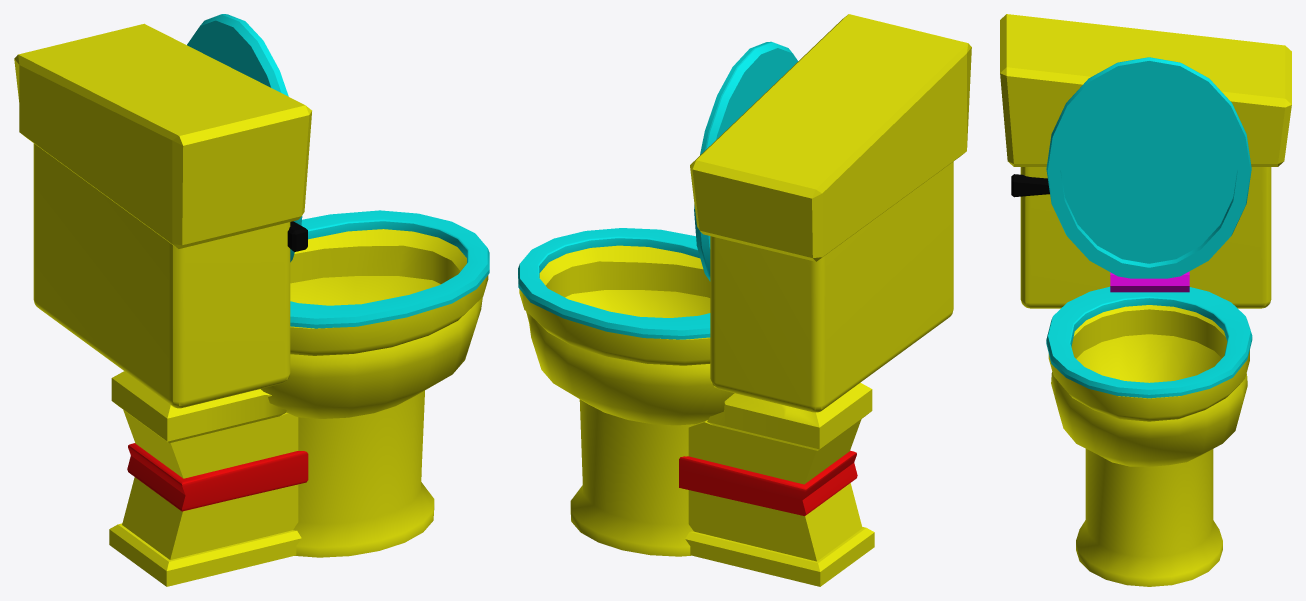
File: toilet.fbx
3 views of the same model, side by side, from view 1: azimuth 30°, elevation 25°; view 2: azimuth 150°, elevation 25°; view 3: azimuth 270°, elevation 25° (orthographic). The views are drawn at different scales.
Visible parts, largest first — view 1: toilet; view 2: toilet; view 3: toilet.
Boxes of the visible parts, left/top/right/bottom form: toilet: left=14, top=14, right=489, bottom=586; toilet: left=518, top=14, right=971, bottom=586; toilet: left=1000, top=14, right=1291, bottom=586.
Size of the model in its own units: 95.19 by 124 by 72.68.
